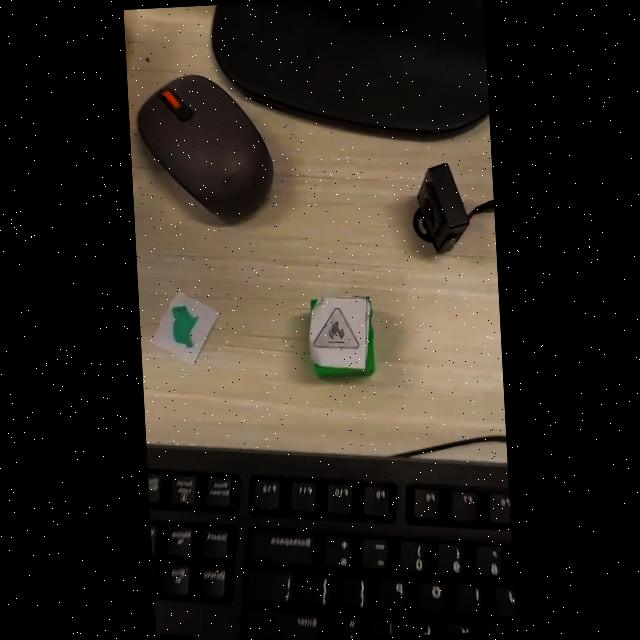Fire: (314, 307, 359, 348)
